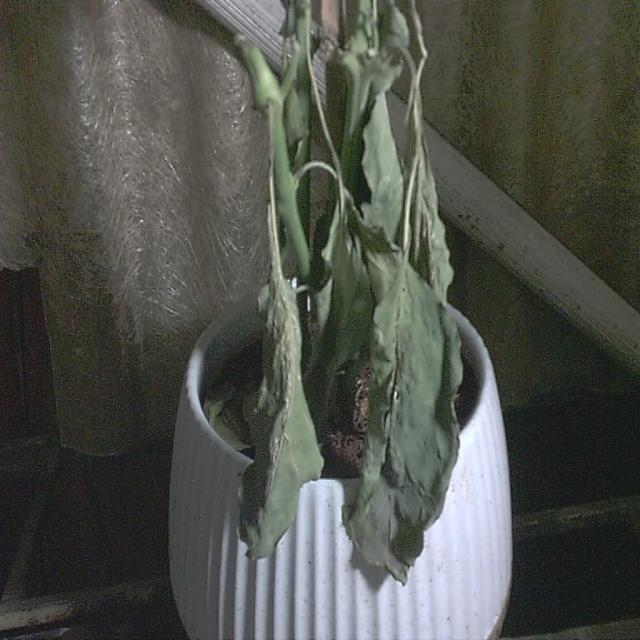Leaf: (347, 257, 462, 583), (234, 272, 325, 563)
